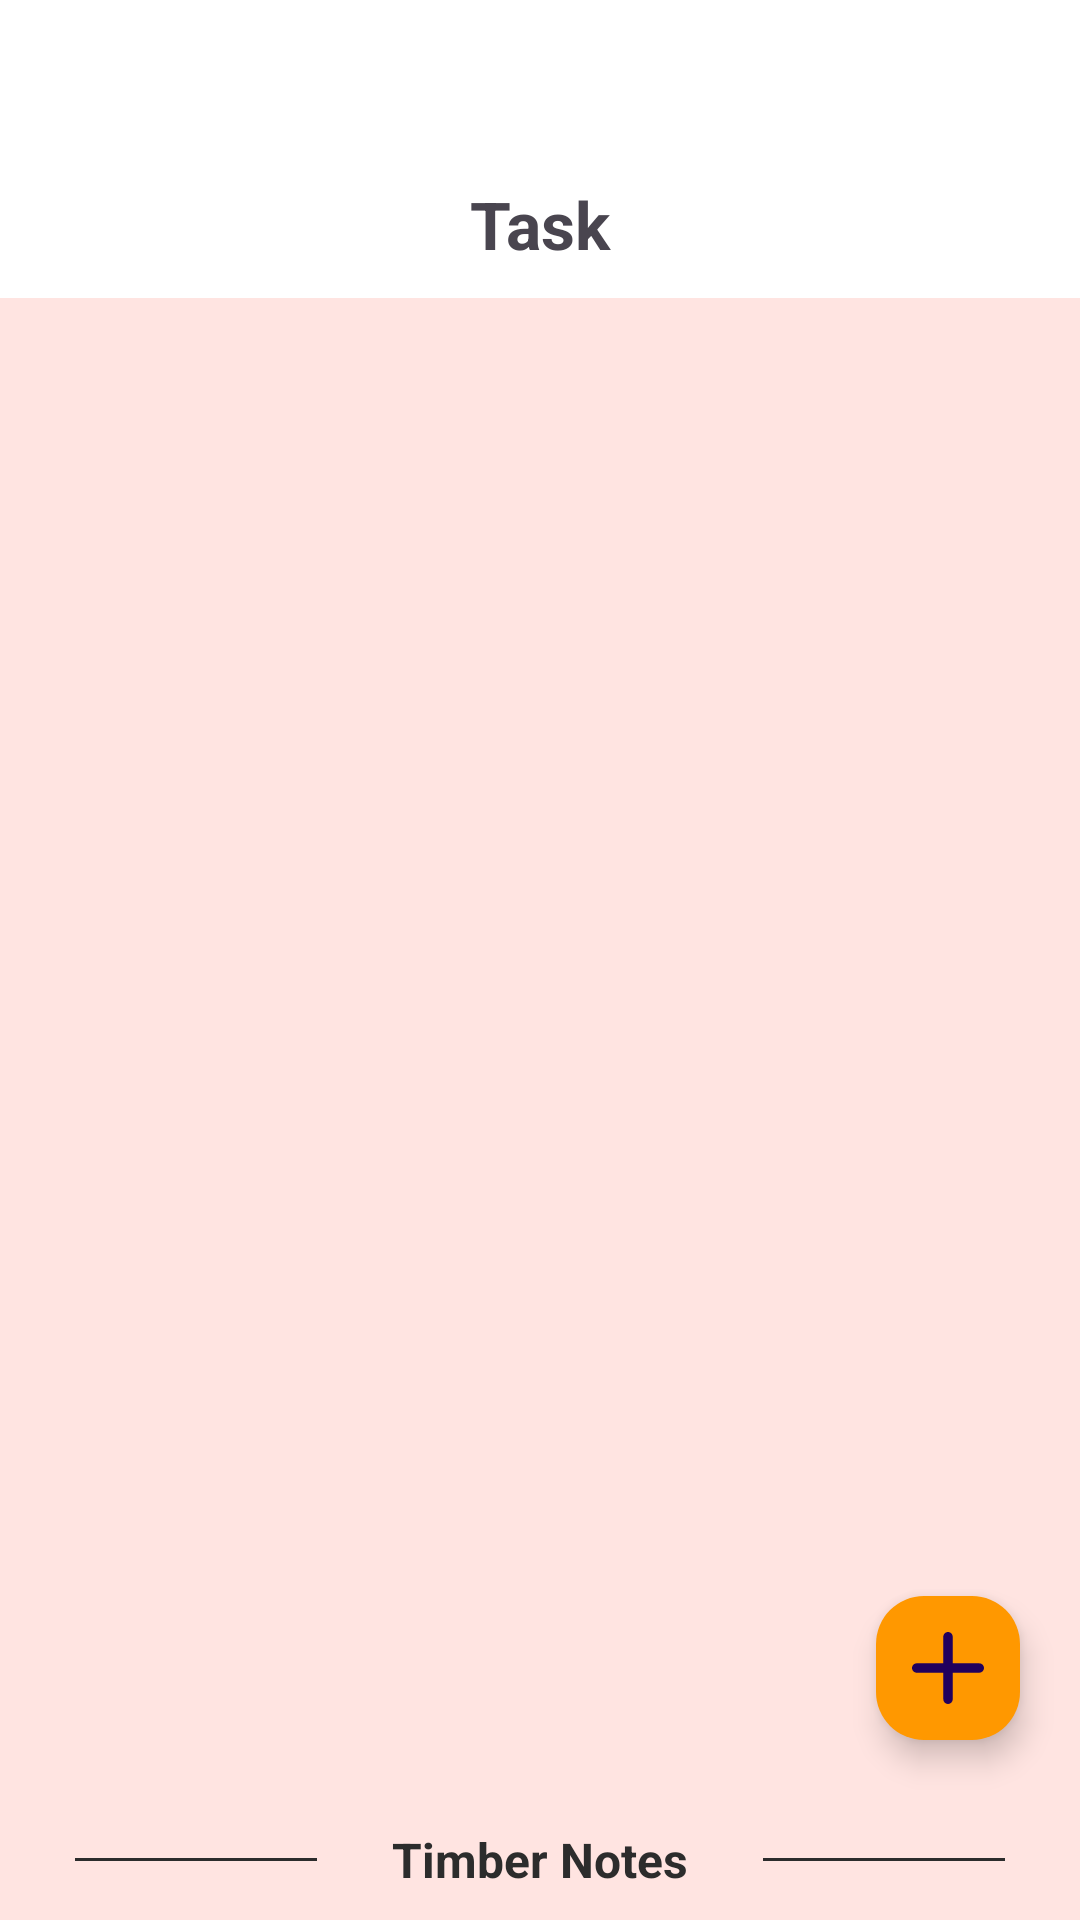

Icons on this 1080 × 1920 Android screen, each with the point to tap as (x,y):
add: (948,1668)
